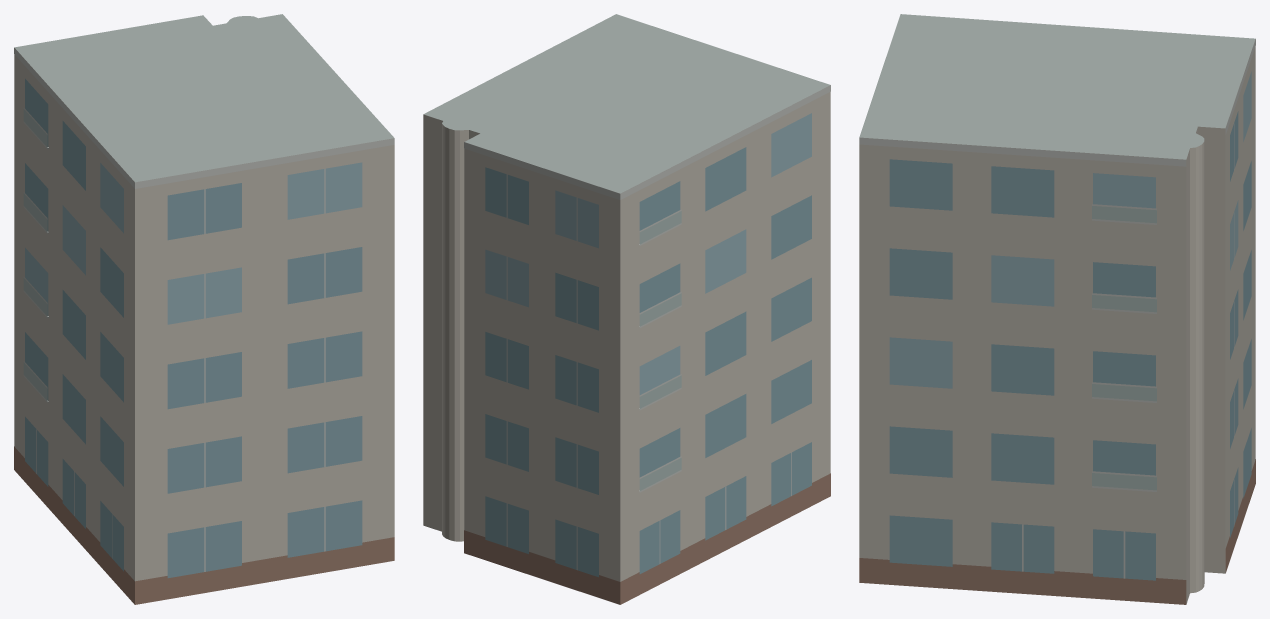
File: survey-upis-33010966.glb
3 views of the same model, side by side, from view 1: azimuth 30°, elevation 25°; view 2: azimuth 150°, elevation 25°; view 3: azimuth 270°, elevation 25° (orthographic). The views are drawn at different scales.
Visible parts, largest first — view 1: survey-upis-33010966.tmp; view 2: survey-upis-33010966.tmp; view 3: survey-upis-33010966.tmp.
Part boxes in pixels (left/top/right/bottom): survey-upis-33010966.tmp: left=14, top=14, right=394, bottom=604; survey-upis-33010966.tmp: left=423, top=14, right=830, bottom=604; survey-upis-33010966.tmp: left=859, top=14, right=1255, bottom=604.
Bounding box in the file's own units: 10.89 × 15.5 × 12.52.
